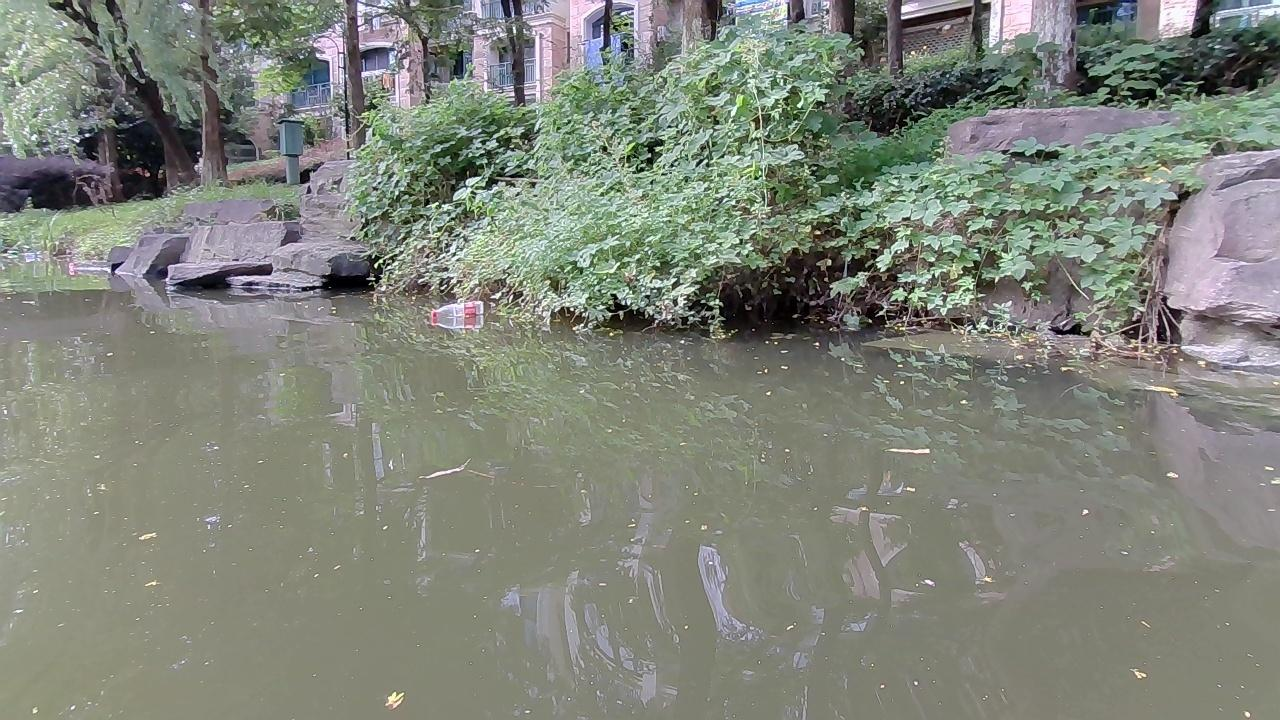bottle: (430, 300, 485, 325)
